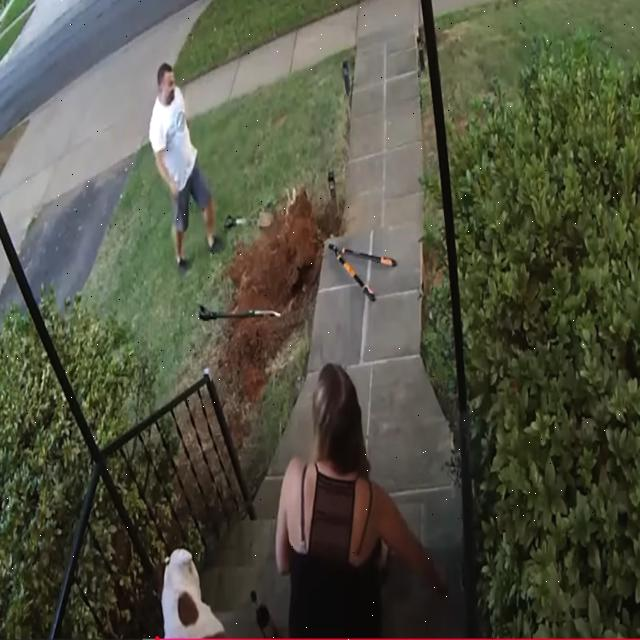sitting: (275, 363, 446, 636)
standing: (149, 63, 221, 268)
